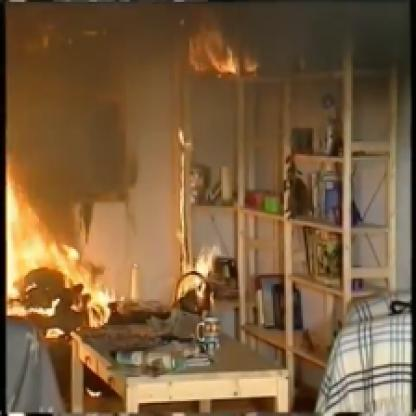fire: (0, 197, 125, 362), (150, 235, 231, 318), (187, 19, 268, 96)
